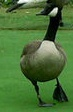goose: (18, 3, 71, 109)
